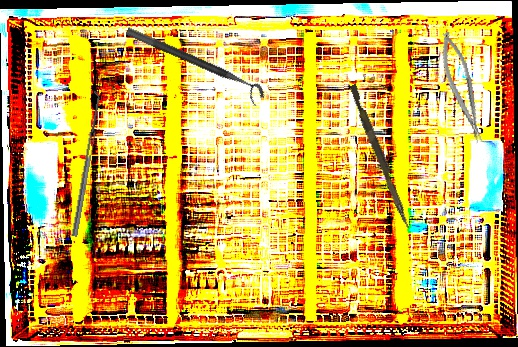Fixation Ring: (120, 26, 268, 108)
Needle Holder: (435, 29, 488, 147)
Pusher: (345, 83, 416, 230)
Spatula Surgical: (66, 90, 103, 237)
